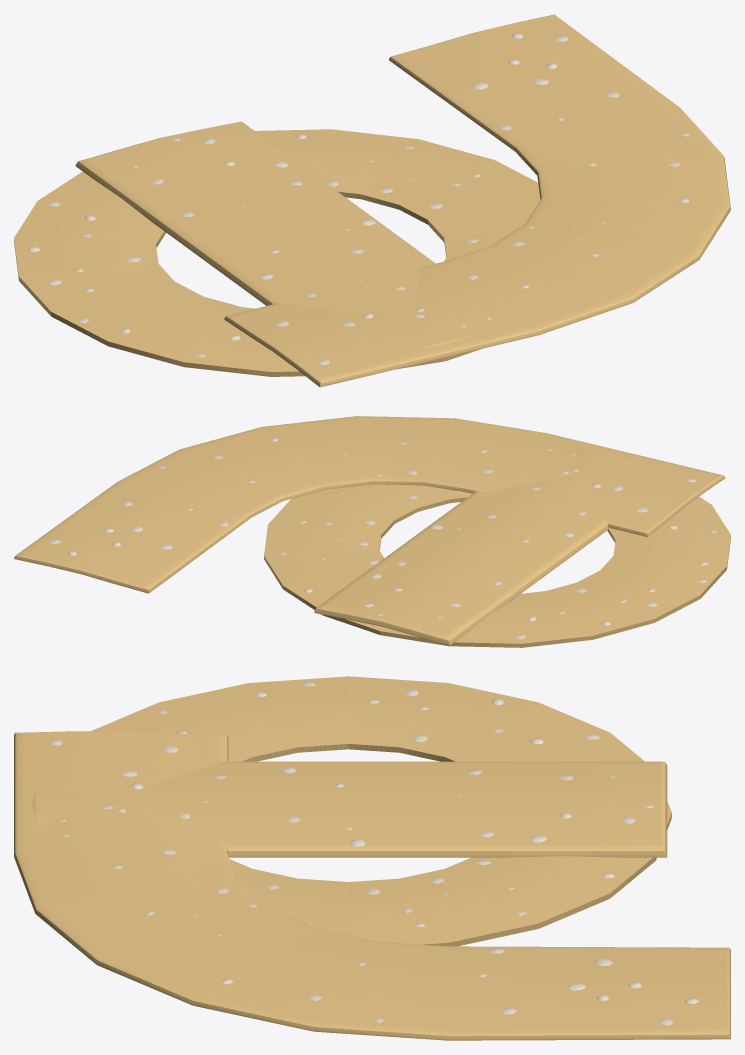
Rendered from roads.fbx.
3 renders of one model, top to bottom at view 1: azimuth 30°, elevation 25°; view 2: azimuth 150°, elevation 25°; view 3: azimuth 270°, elevation 25°, orthographic. The views are drawn at different scales.
Visible parts, largest first — view 1: road_3, road_1, polySurface1, polySurface2, polySurface4, polySurface3; view 2: road_3, road_1, polySurface1, polySurface2, polySurface4, polySurface3; view 3: road_3, road_1, polySurface2, polySurface1, polySurface4, polySurface3.
Part boxes in pixels (x1,y1,x2,y2): road_3: (224,14,730,387); road_1: (75,121,485,351); polySurface1: (14,171,174,316); polySurface2: (255,129,539,224); polySurface4: (51,281,445,376); polySurface3: (427,192,540,360); road_3: (14,416,725,593); road_1: (314,446,639,645); polySurface1: (380,570,700,647); polySurface2: (264,496,394,634); polySurface4: (600,496,730,598); polySurface3: (300,484,472,523); road_3: (14,731,730,1040); road_1: (32,761,667,857); polySurface2: (348,812,671,946); polySurface1: (348,676,671,812); polySurface4: (91,676,348,761); polySurface3: (229,859,348,934).
Bounding box in the file's own units: 2735 × 74.07 × 2251.
